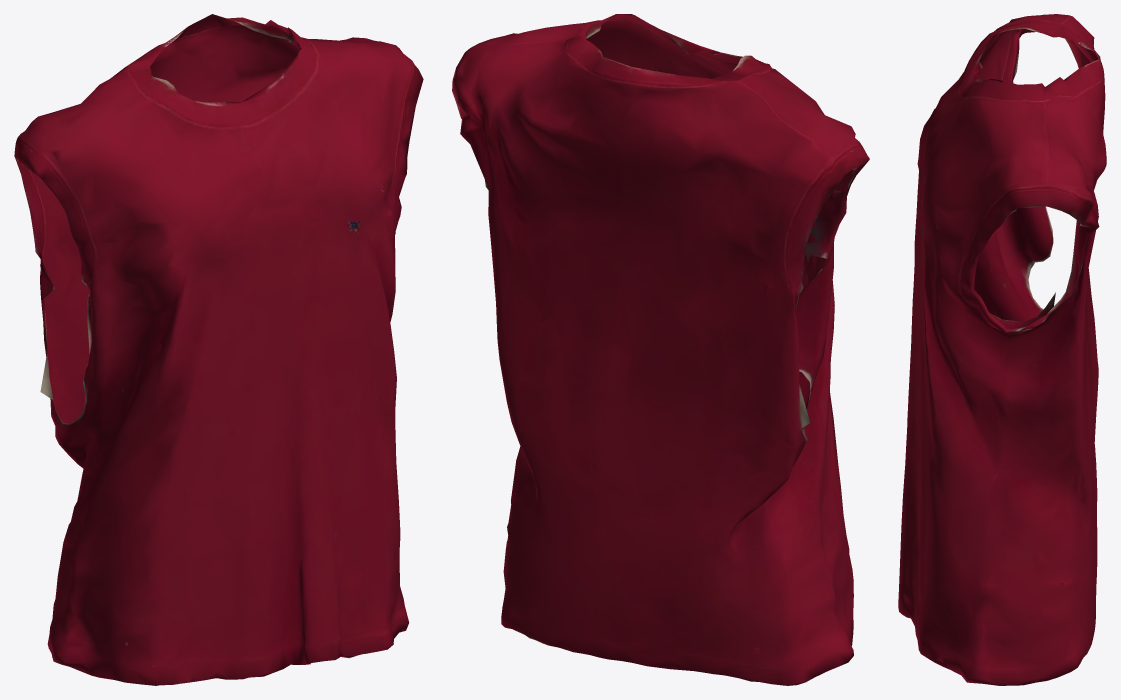
3 renders of one model, left to right at view 1: azimuth 30°, elevation 25°; view 2: azimuth 150°, elevation 25°; view 3: azimuth 270°, elevation 25°, orthographic. The views are drawn at different scales.
Parts seen in each view (by area): view 1: tripo_part_0; view 2: tripo_part_0; view 3: tripo_part_0.
Boxes of the visible parts, x1,y1,x2,y2 form: tripo_part_0: (14, 14, 423, 685); tripo_part_0: (452, 14, 869, 685); tripo_part_0: (898, 14, 1106, 685).
Bounding box in the file's own units: 0.5097 × 0.7467 × 0.248.
1 material, 1 textured.
